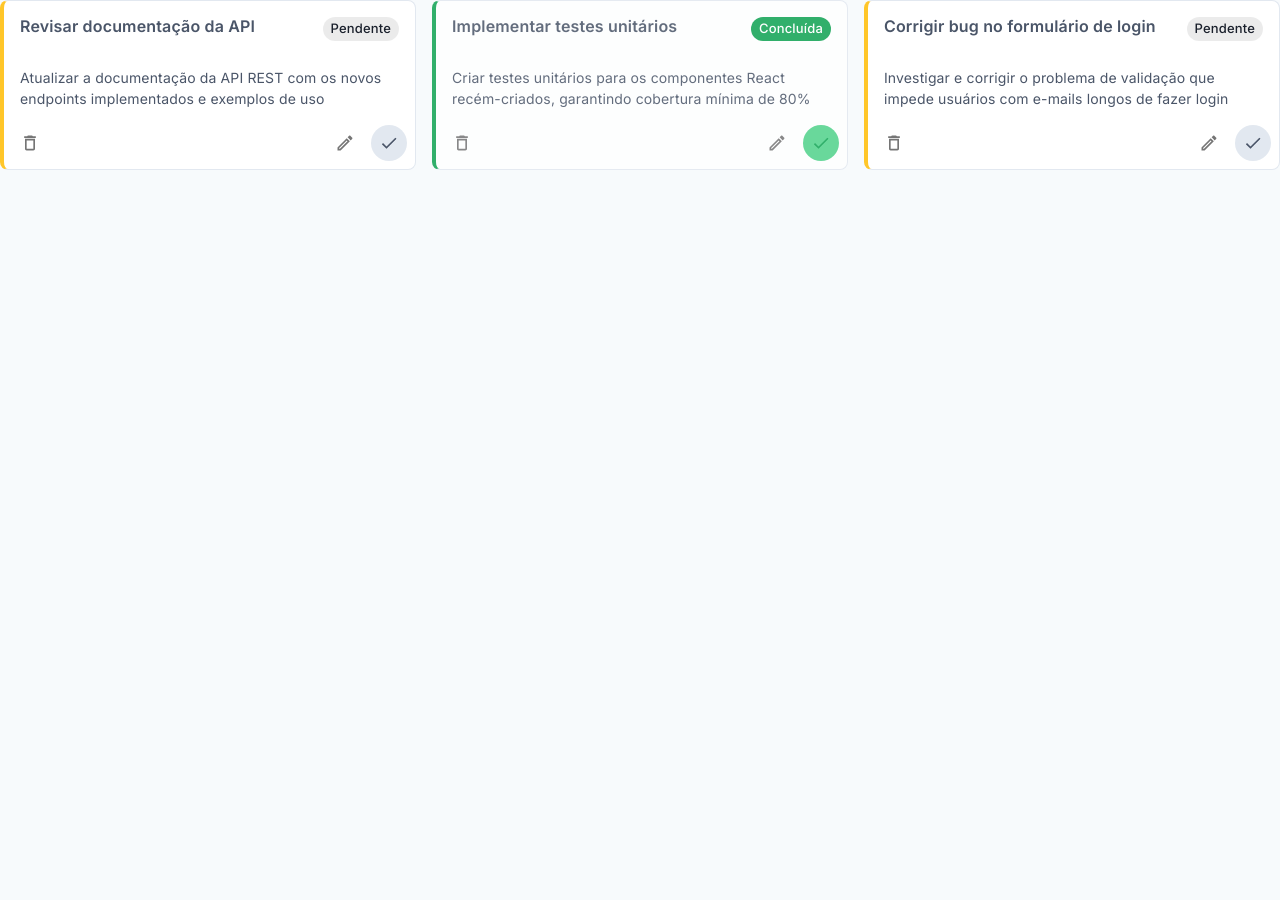
TaskList - Integration Tests › Ref. Use Case 005 - Delete task flow › should not delete task when canceling dialog
Expected: the text "Revisar documentação da API" is shown, [20,16,255,36]
Click the button named "excluir tarefa" below "Revisar documentação da API" at (30, 143), box [12,125,48,161]
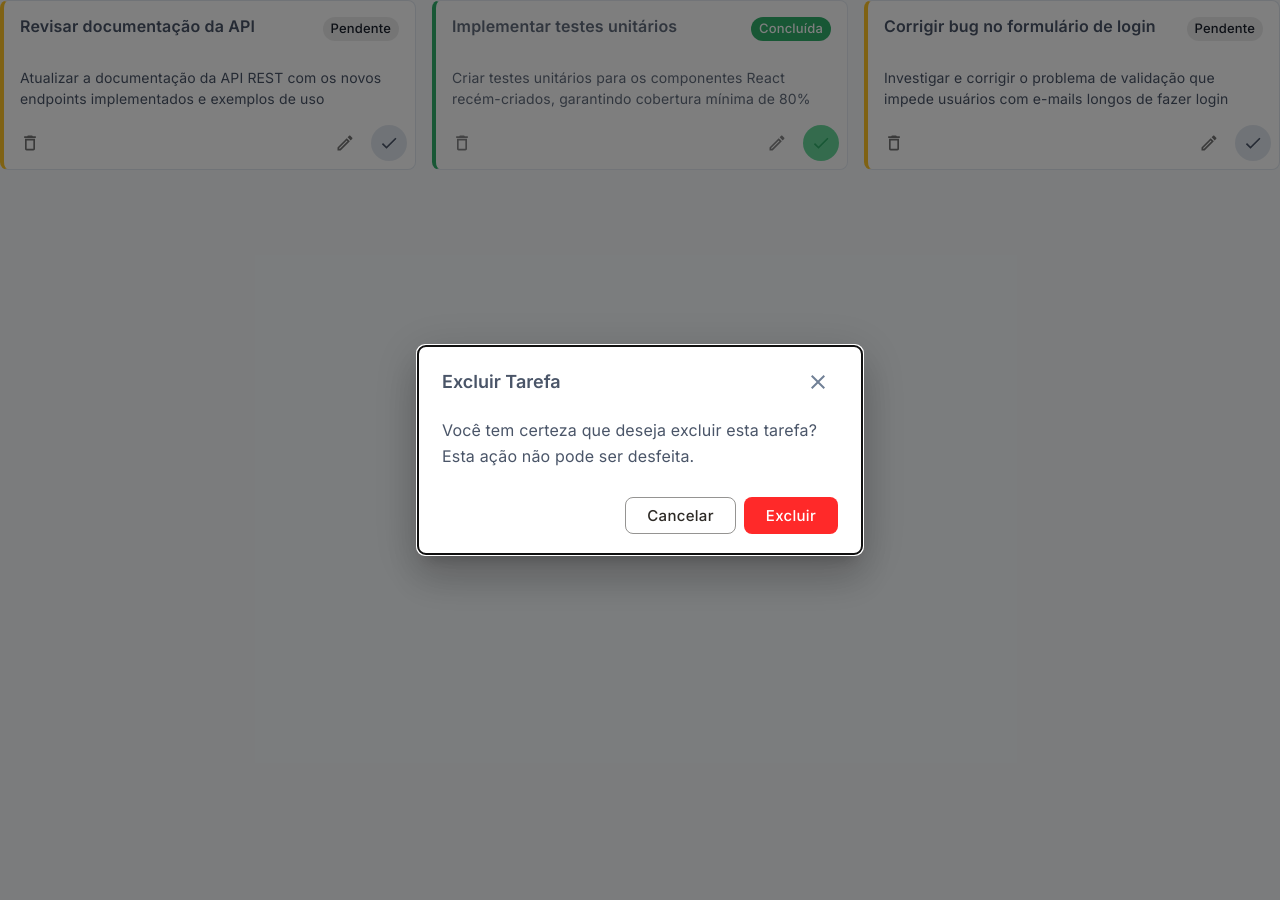
Expected: the text "Excluir Tarefa" is shown, [442,369,561,395]
Click the button "Cancelar" at (681, 516), box [625,497,736,534]
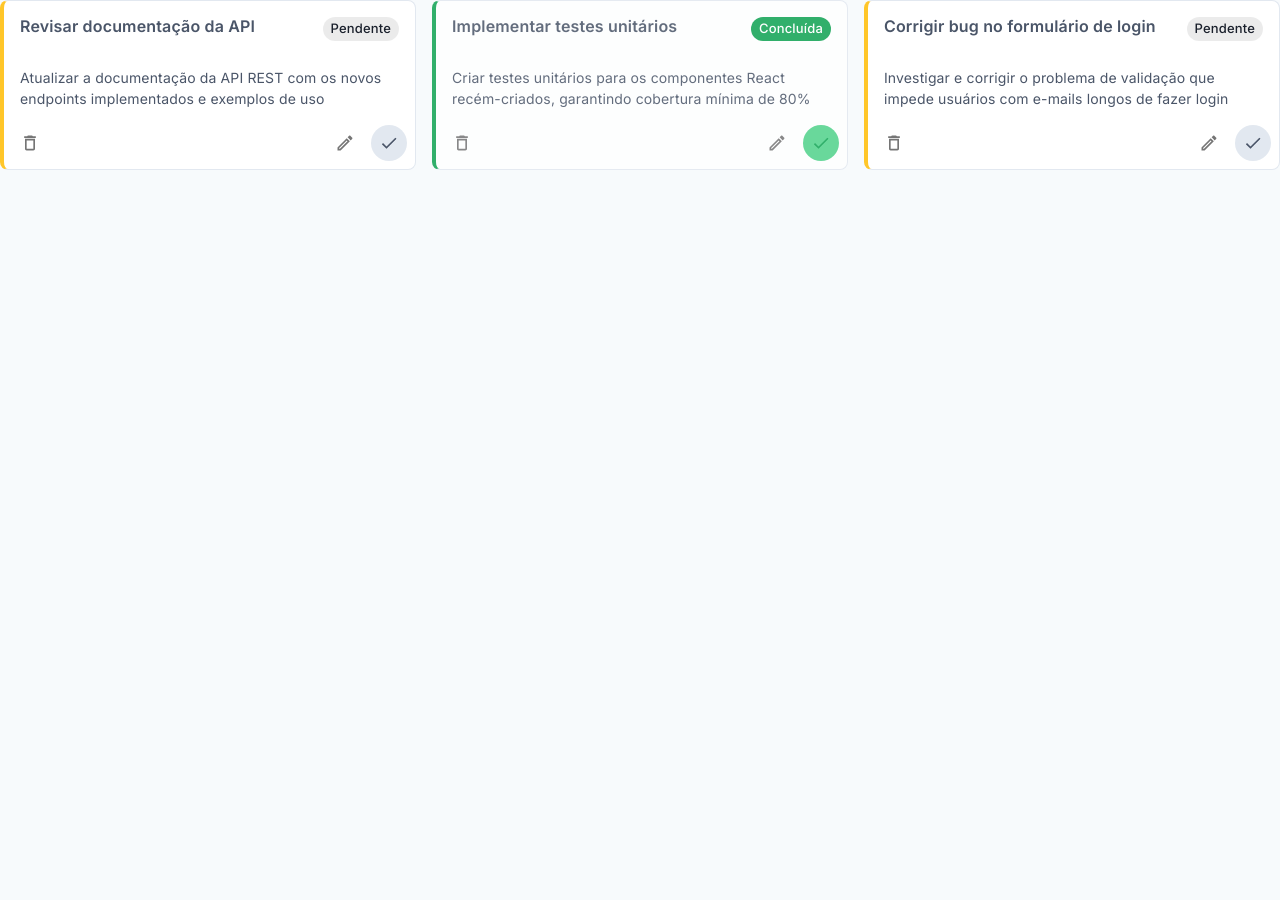
Expected: the number of buttons named "excluir tarefa" is 3, [12,125,48,161]; [444,125,480,161]; [876,125,912,161]
